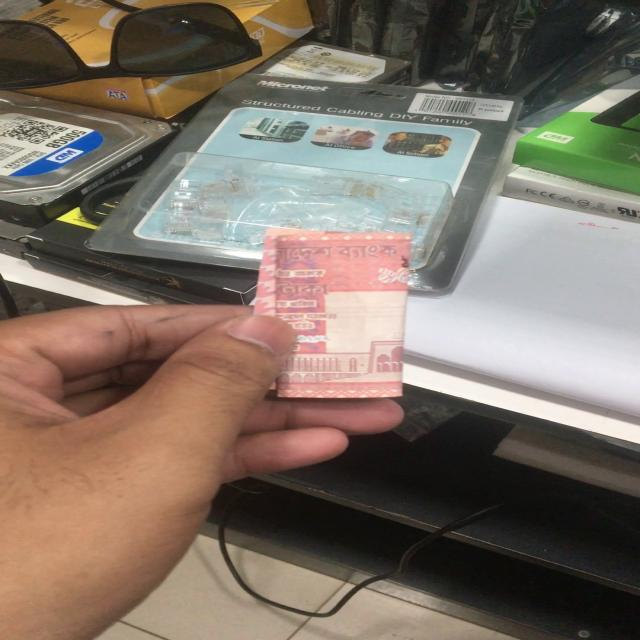Taka: (282, 231, 411, 397)
